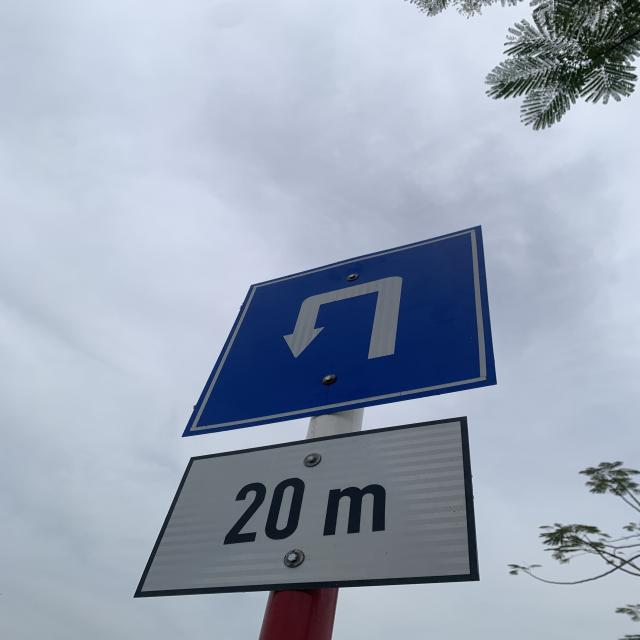Den_Giao_Thong: (184, 222, 496, 439)
